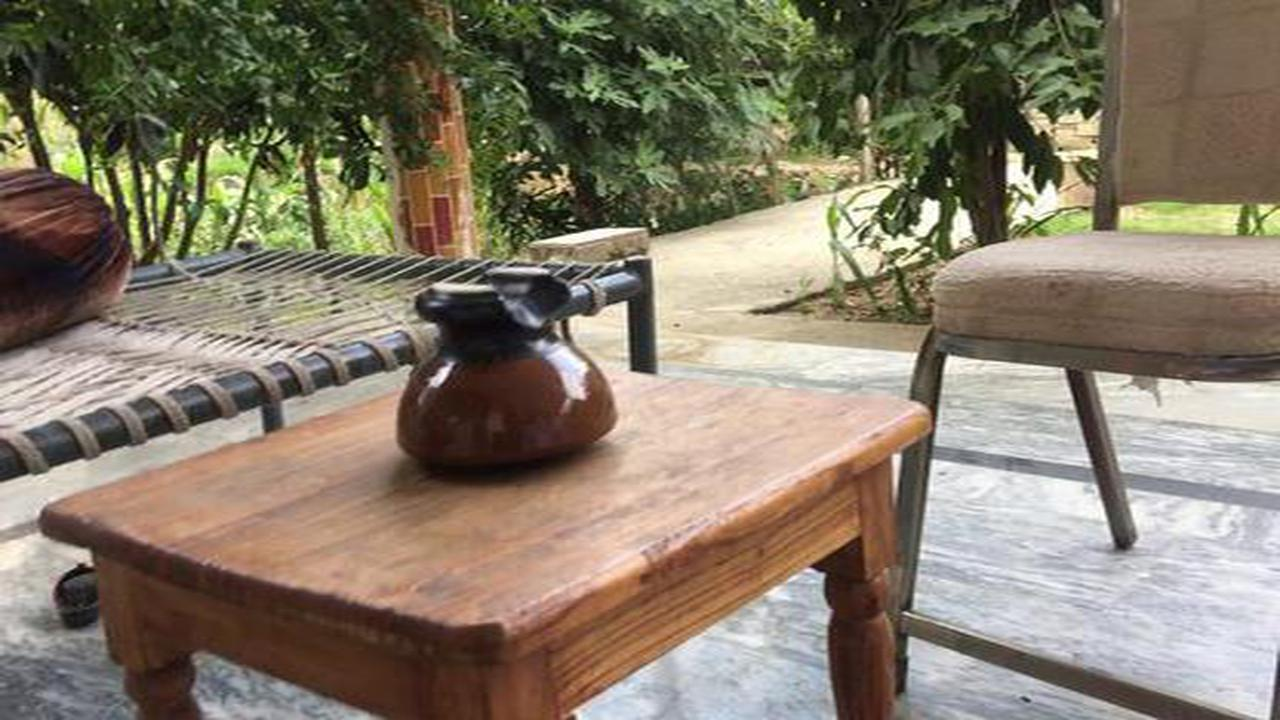insulator_pin: (379, 249, 631, 482)
